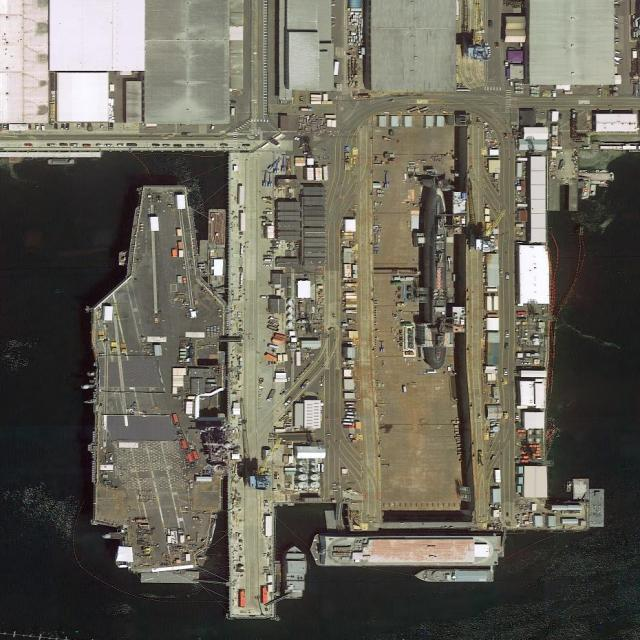Aircraft Carrier: (92, 186, 225, 582)
Cargo: (310, 533, 507, 568)
Dock: (224, 151, 277, 619)
Other Ship: (284, 545, 306, 599), (413, 571, 494, 583)
Submarine: (419, 173, 447, 369)
